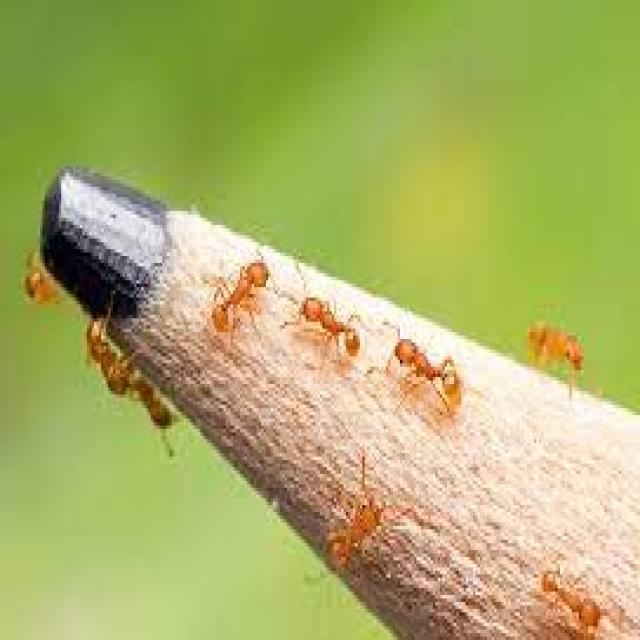ants: (384, 316, 462, 421), (323, 480, 406, 577), (532, 550, 607, 640), (292, 279, 362, 367), (208, 248, 272, 338), (83, 303, 135, 408), (522, 309, 583, 398), (131, 371, 179, 448)
